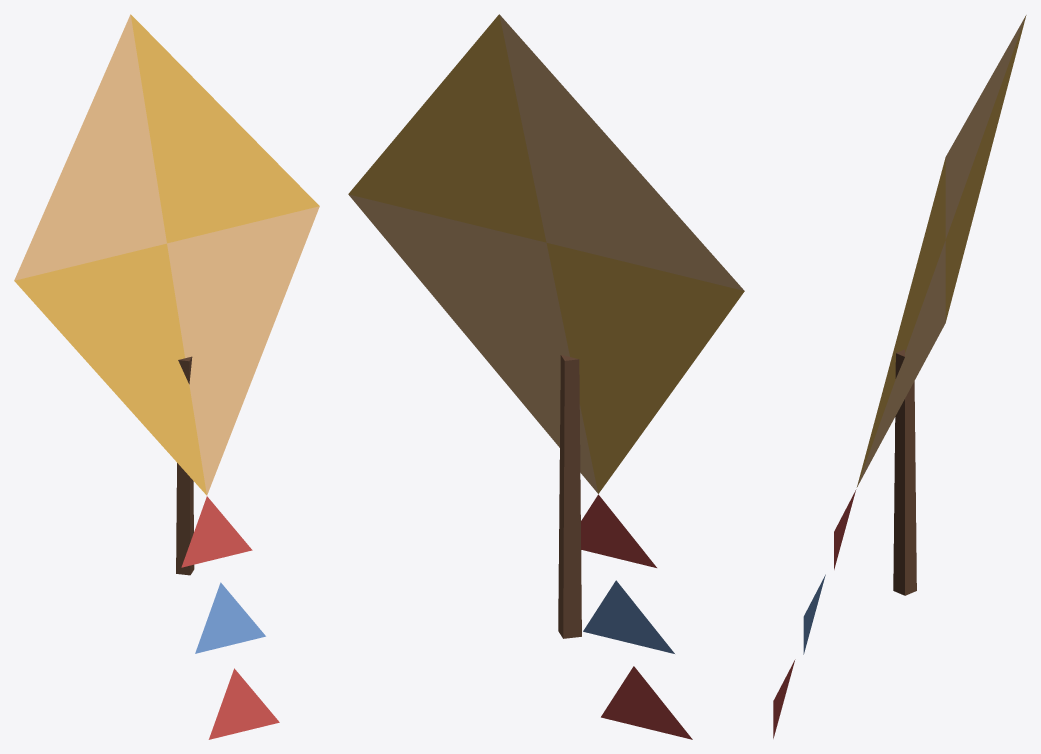
Rendered from deco_kite.obj.
3 renders of one model, left to right at view 1: azimuth 30°, elevation 25°; view 2: azimuth 150°, elevation 25°; view 3: azimuth 270°, elevation 25°, orthographic. The views are drawn at different scales.
Parts seen in each view (by area): view 1: deco_kite; view 2: deco_kite; view 3: deco_kite.
Part boxes in pixels (<box>): deco_kite: <box>14,14,319,739</box>; deco_kite: <box>348,14,744,739</box>; deco_kite: <box>773,15,1026,738</box>.
Size of the model in its own units: 0.03 by 0.0594 by 0.0193.
1 material, 1 textured.
